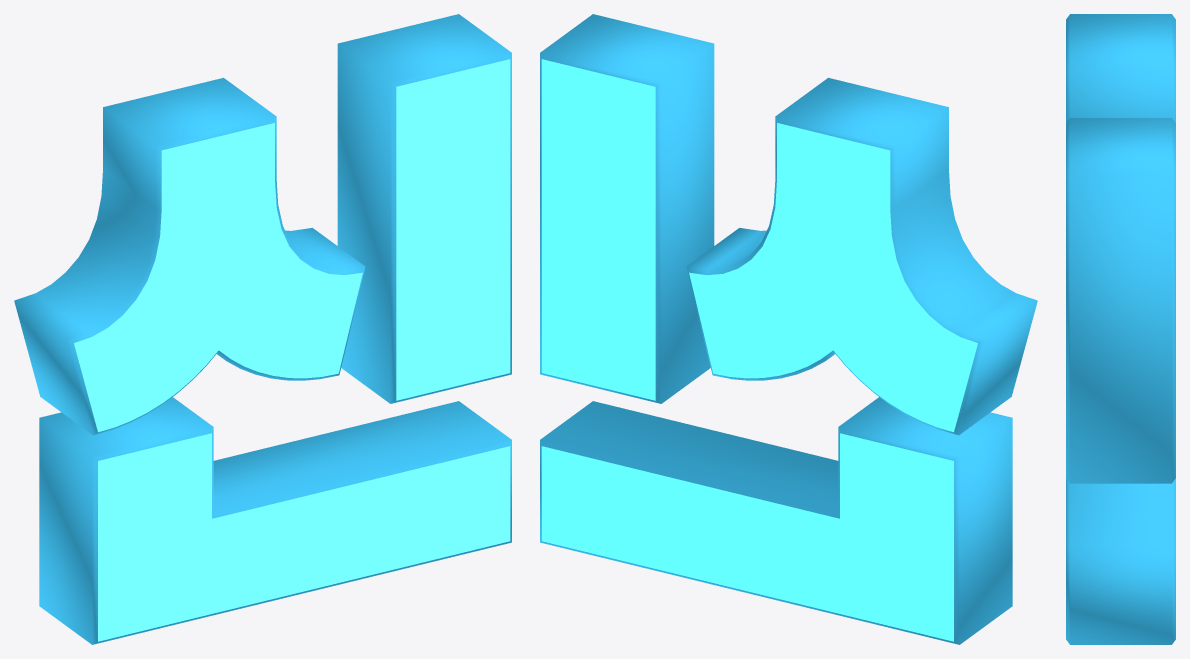
The picture shows the model from 3 angles, left to right: view 1: azimuth 30°, elevation 25°; view 2: azimuth 150°, elevation 25°; view 3: azimuth 270°, elevation 25°; orthographic projection. The views are drawn at different scales.
Visible parts, largest first — view 1: glyph; view 2: glyph; view 3: glyph.
Part boxes in pixels (left/top/right/bottom): glyph: left=14, top=14, right=511, bottom=644; glyph: left=540, top=14, right=1037, bottom=644; glyph: left=1066, top=14, right=1175, bottom=644.
Bounding box in the file's own units: 0.0728 × 0.0766 × 0.0162.
